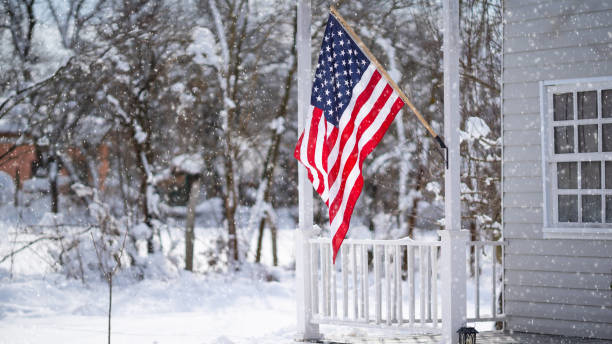America flag: (296, 6, 405, 267)
